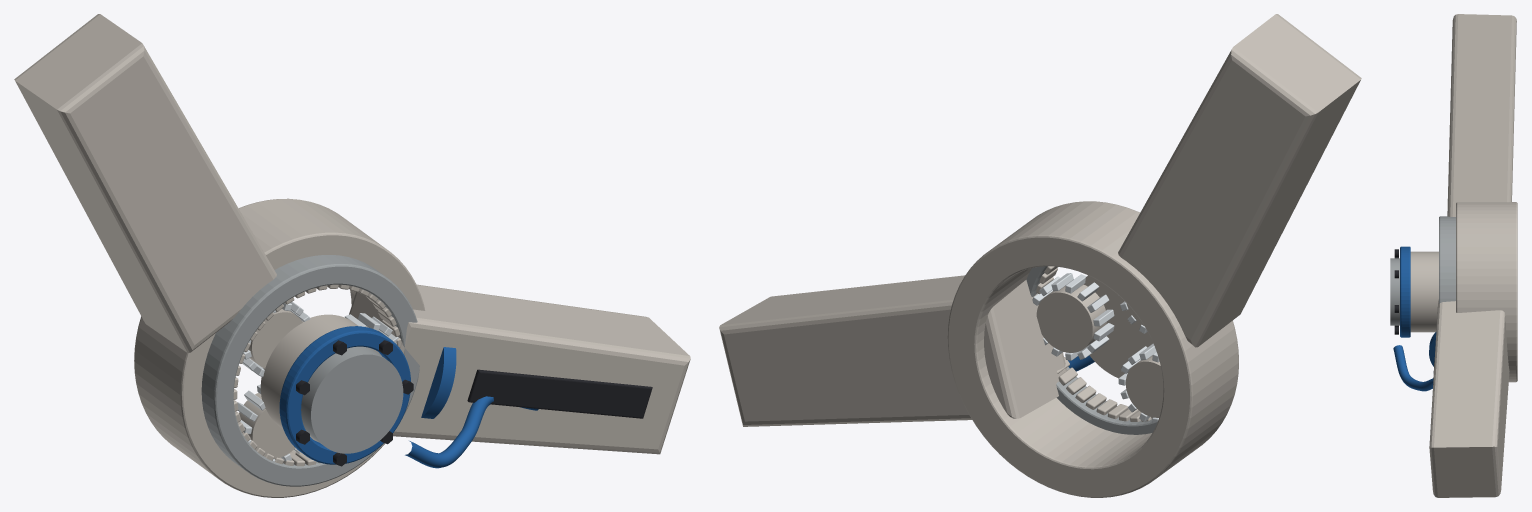
The model's file is anatomy-08.glb.
The picture shows the model from 3 angles, left to right: view 1: azimuth 30°, elevation 25°; view 2: azimuth 150°, elevation 25°; view 3: azimuth 270°, elevation 25°; orthographic projection. The views are drawn at different scales.
Visible parts, largest first — view 1: upper, forearm, housing, ring, cover, hub, gears, cable, gland, bolts; view 2: upper, forearm, housing, gears, ring, hub; view 3: forearm, upper, housing, hub, ring, cable, cover, bolts, gland.
Part boxes in pixels (x1,y1,x2,y2): upper: (14,14,276,352); forearm: (349,284,690,454); housing: (134,198,425,497); ring: (201,255,419,486); cover: (301,346,403,453); hub: (260,314,410,464); gears: (237,301,398,461); cable: (405,396,538,468); gland: (421,347,456,418); bolts: (296,340,413,466); upper: (1118,14,1361,347); forearm: (719,275,1067,426); housing: (947,201,1238,497); gears: (1032,273,1163,422); ring: (1026,266,1157,434); hub: (1084,275,1152,378); forearm: (1429,299,1509,497); upper: (1447,14,1516,216); housing: (1456,202,1517,382); hub: (1400,246,1438,337); ring: (1439,216,1455,303); cable: (1393,345,1433,391); cover: (1390,258,1399,325); bolts: (1394,249,1398,334); gland: (1429,332,1436,366).
Bounding box in the file's own units: 2.25 × 1.81 × 0.6325.
